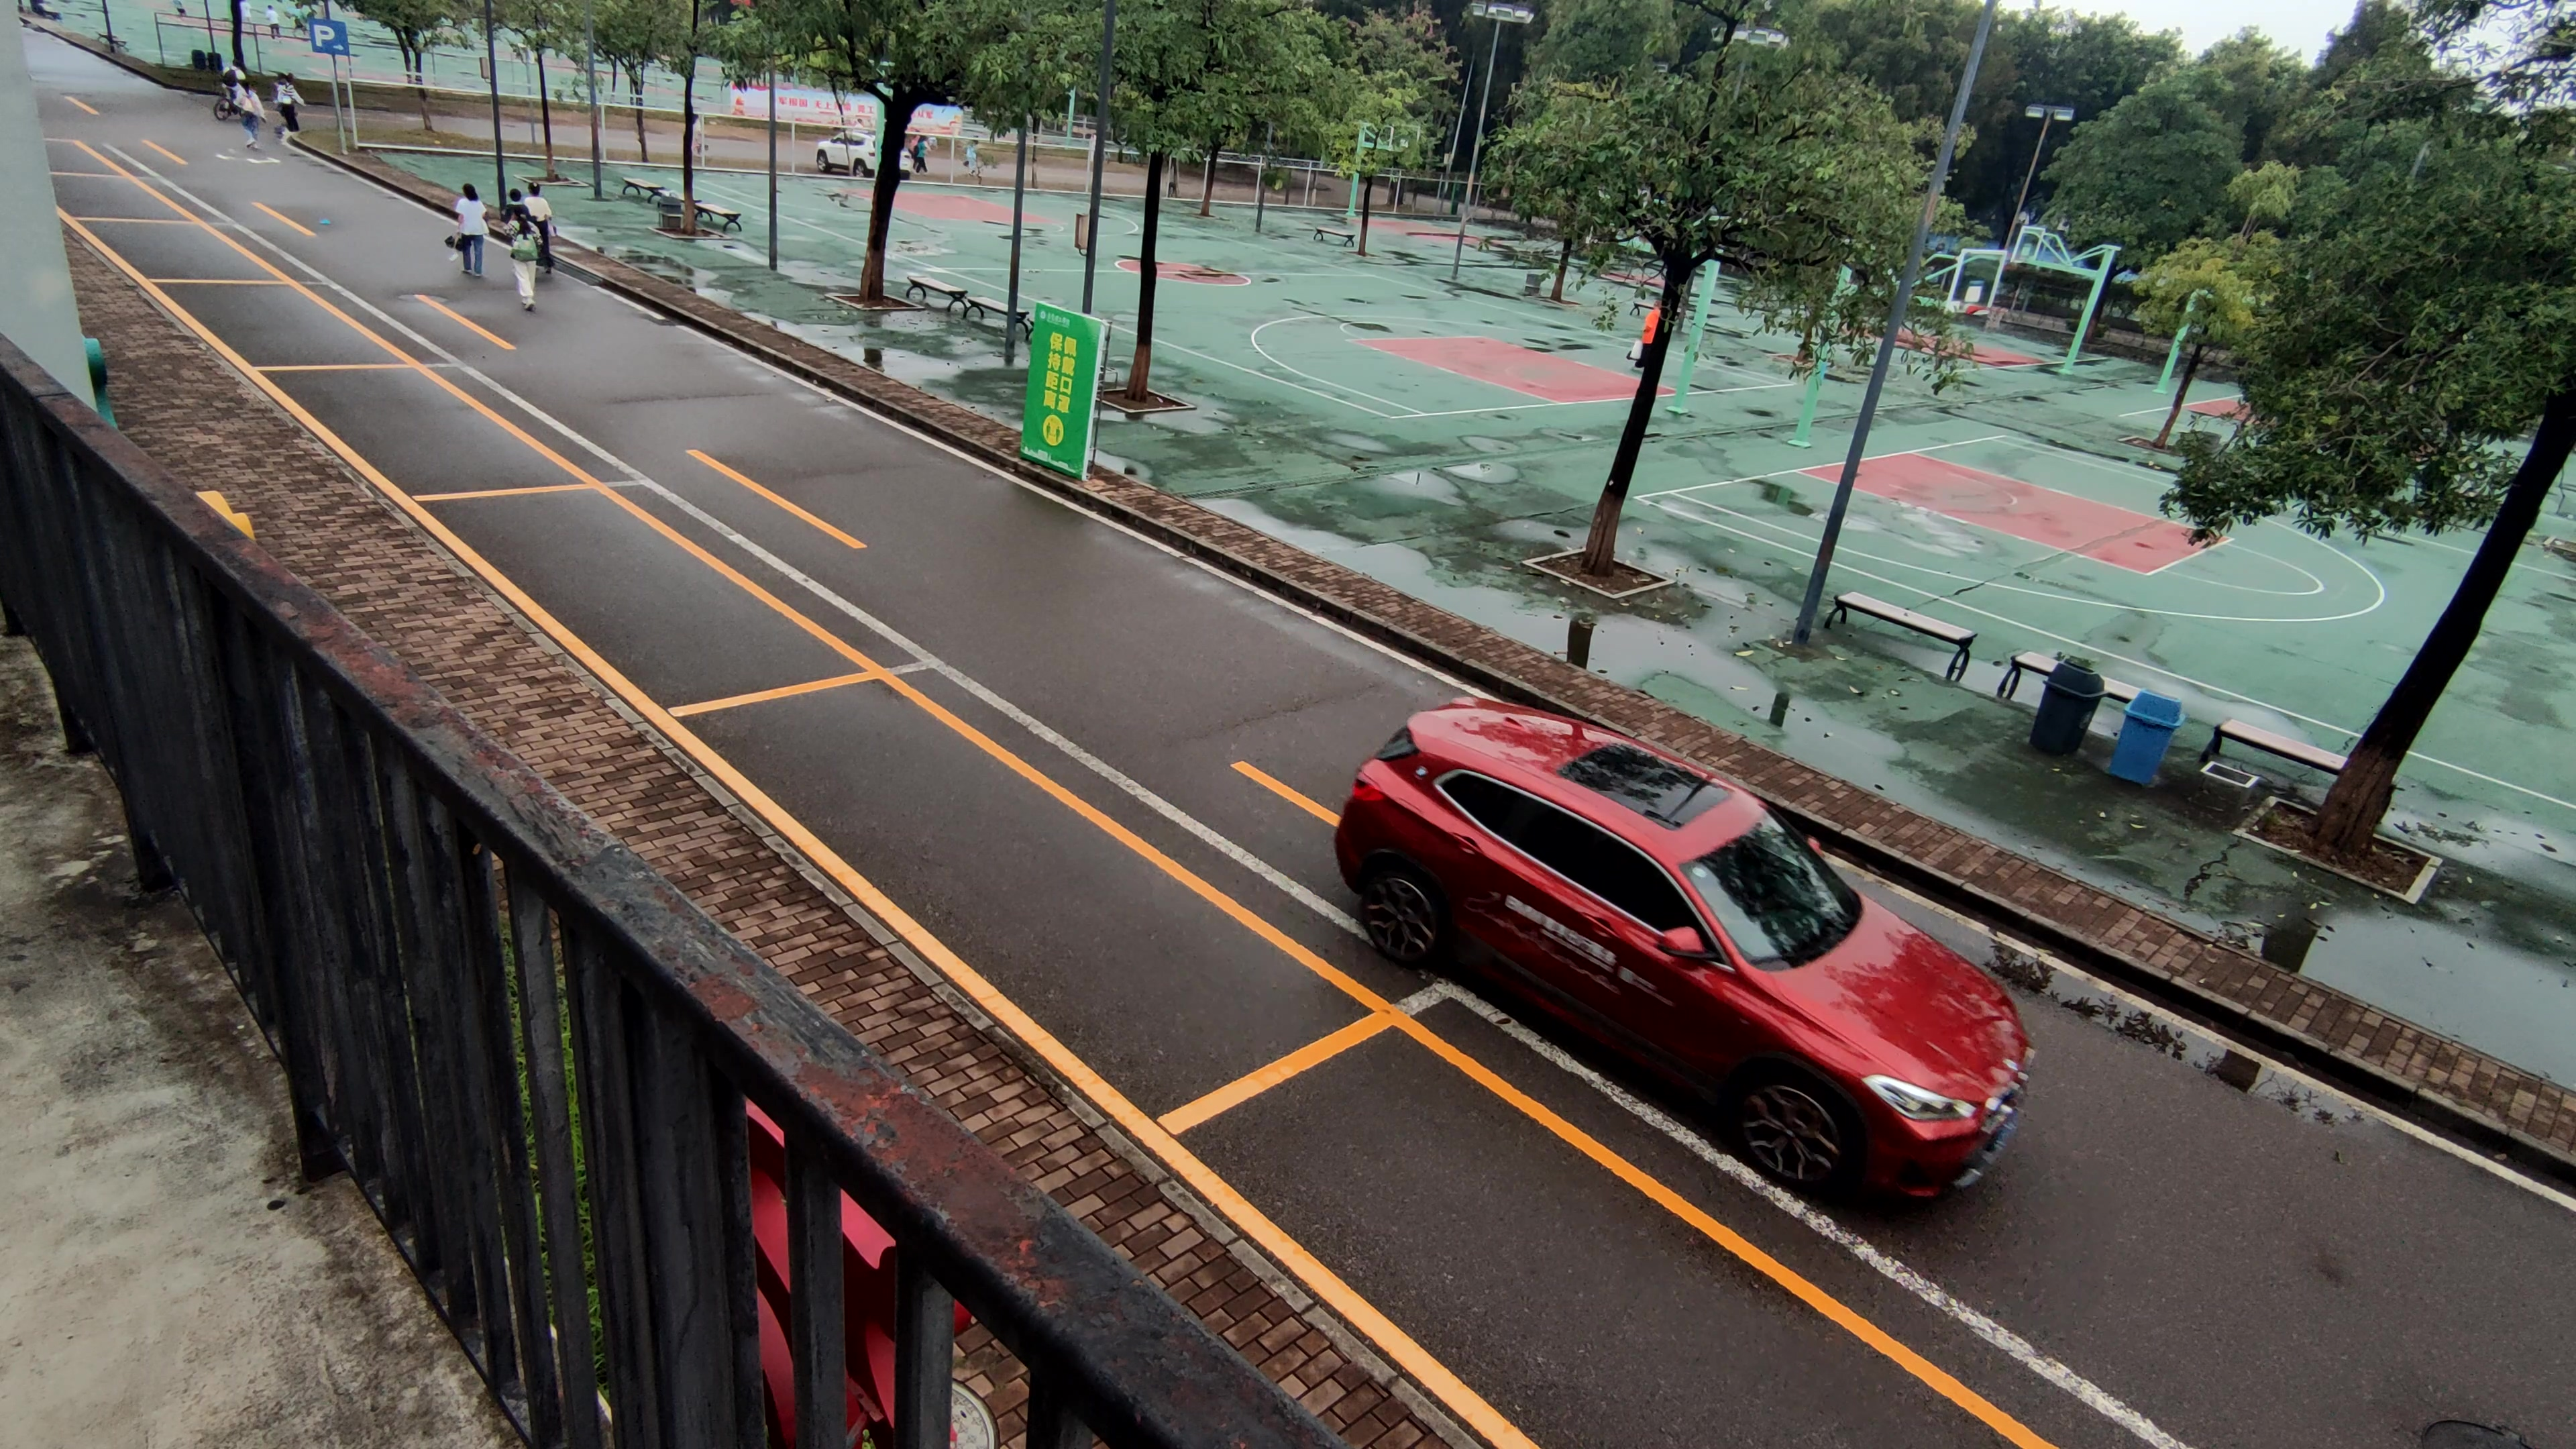space-empty: (649, 660, 1396, 1143), (405, 474, 878, 720), (249, 354, 600, 497), (142, 272, 421, 379), (73, 209, 303, 287)
